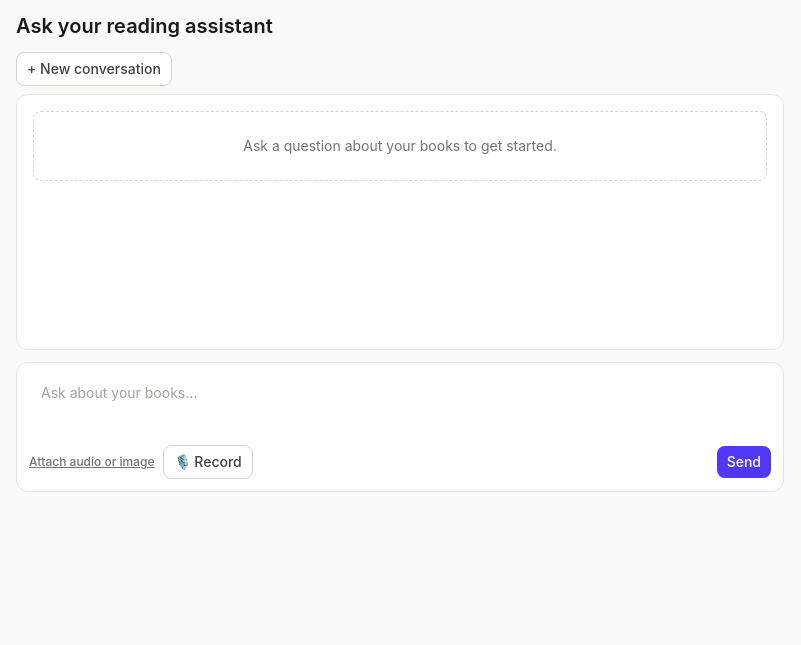
Test: Chat › resolves an ask-pages-read interrupt (FR-4.7)
In the text box named "message": point(400, 403) 29,375 -> 771,431, type "catch me up"
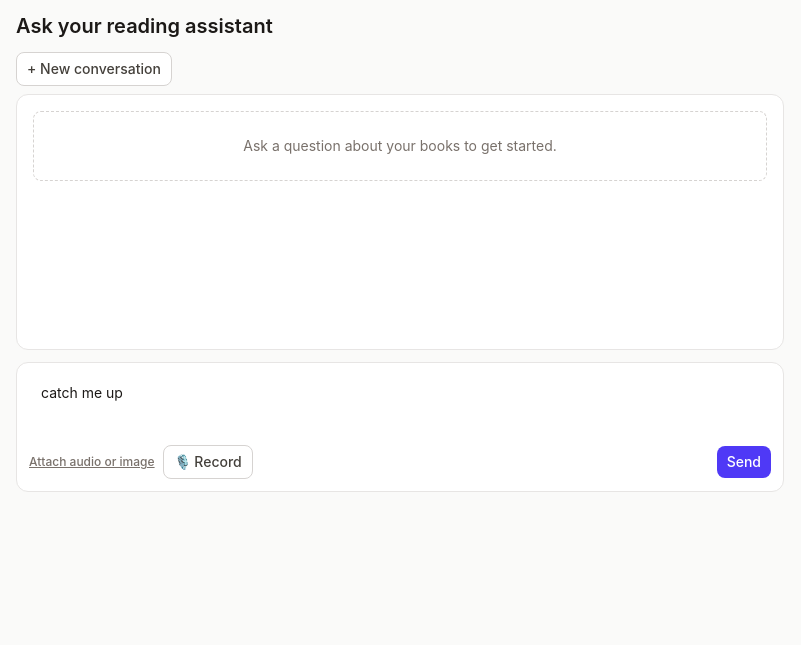
Click the button "Send": point(744, 462) 717,446 -> 771,478
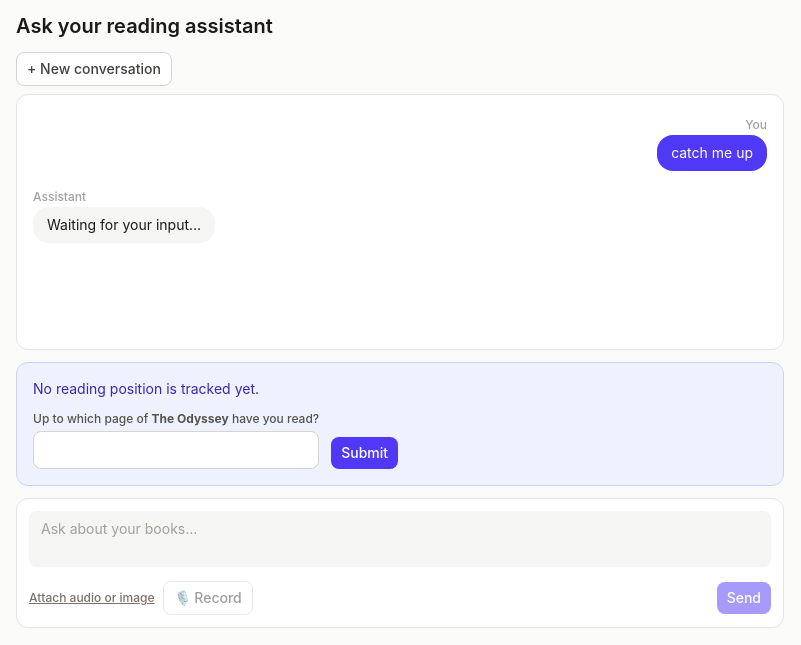
In the number field labelled "Up to which page of The Odyssey have you read?": point(176, 450) 33,431 -> 319,469, type "50"
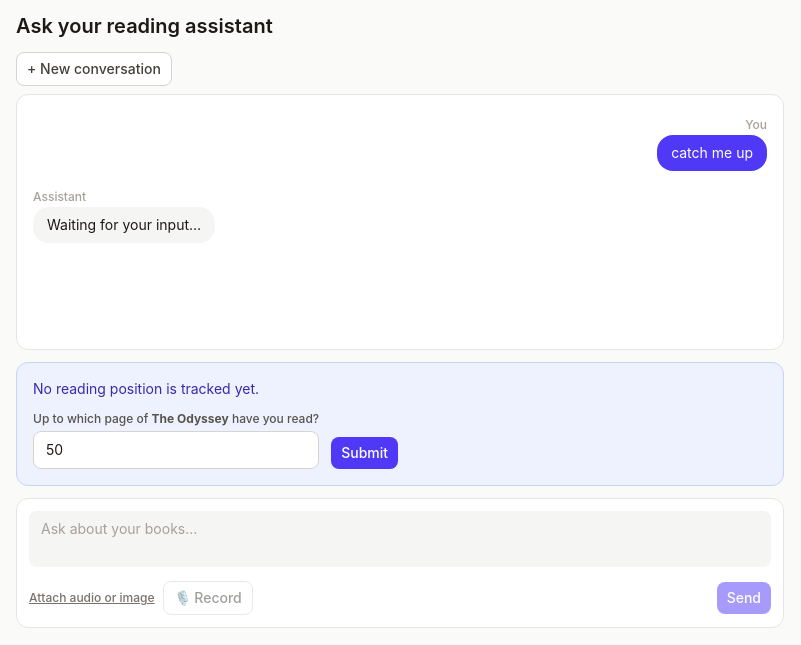
Click the button "Submit": point(365, 453) 331,437 -> 398,469
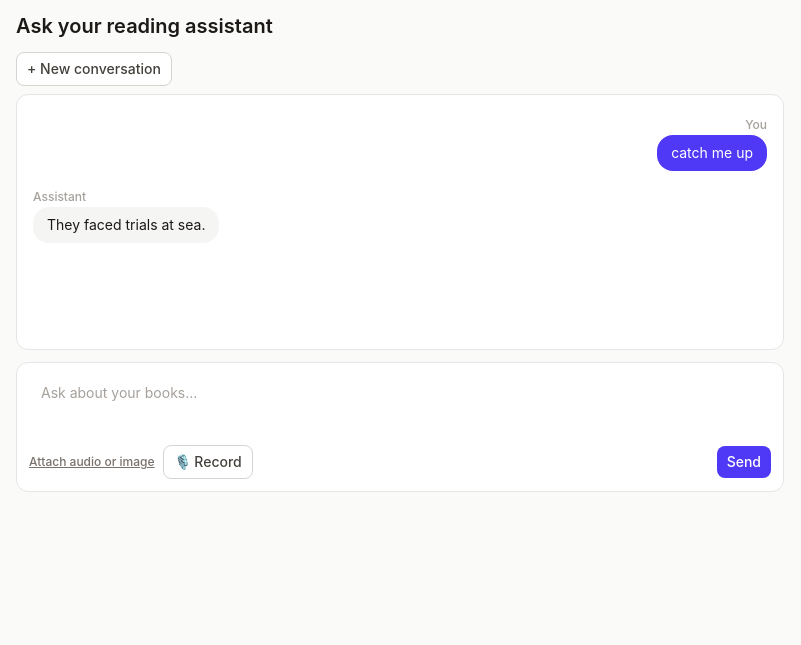
Expected: the text "They faced trials at sea." is shown, 47,216 -> 205,233
